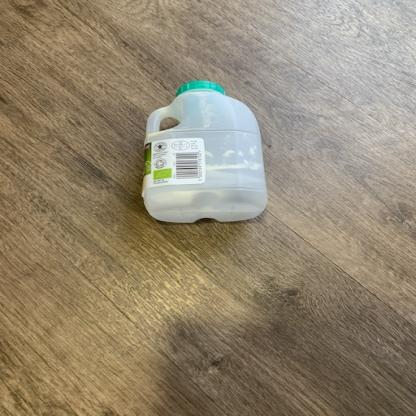trash: (139, 79, 271, 224)
